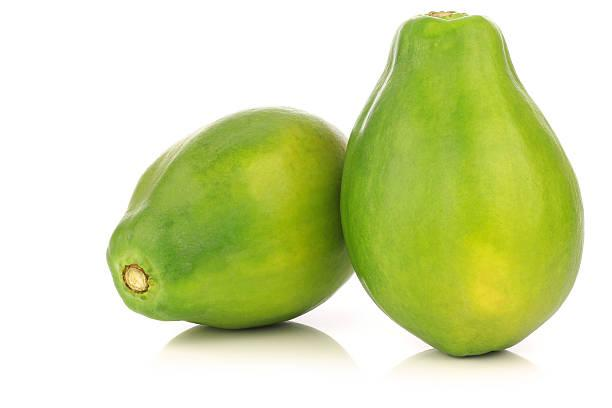papaya: (339, 9, 589, 374), (100, 96, 341, 337)
